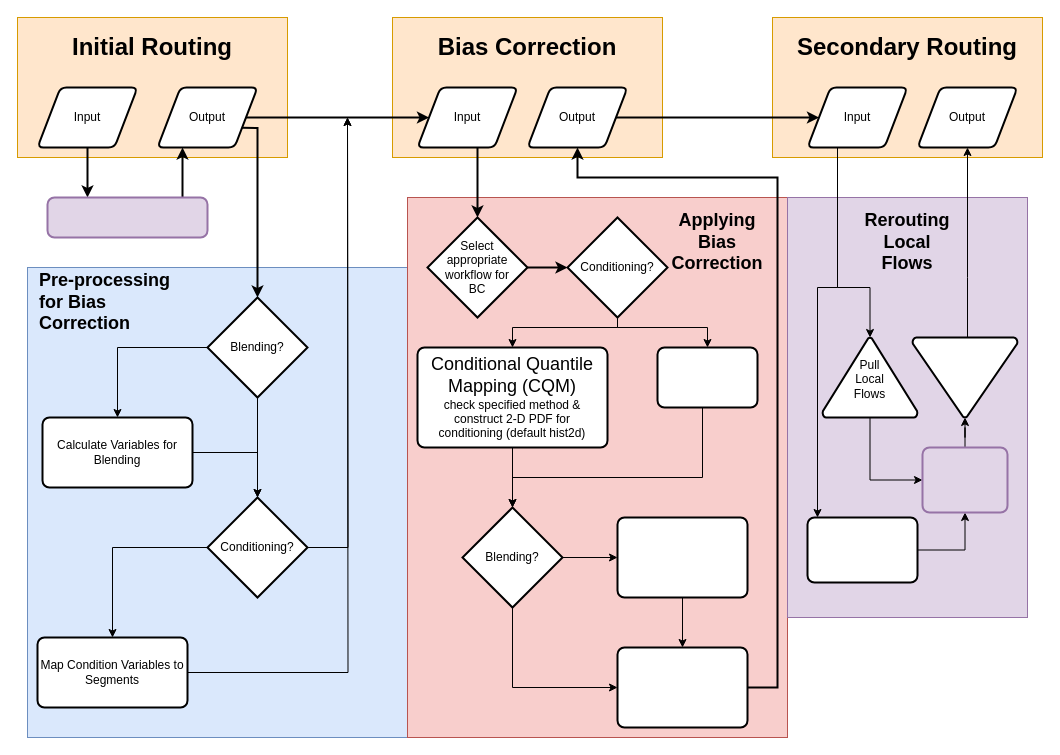
Image size: 1060x755. Some labels were removed from this diagram. The box of each missing label's shape, as (x1, y1, x2, y2) in pixels:
Apply Corrections to Local Flows: (616, 646, 748, 728)
Blend upstream/downstream corrections and multipliers: (616, 516, 748, 598)
EDCDFm: (656, 346, 758, 408)
Reroute Local flows through mizuRoute: (921, 446, 1008, 513)
Route Runoff through mizuRoute: (46, 196, 208, 238)
Scale Topology for routing only flows: (806, 516, 918, 583)
Update Local Flows: (911, 336, 1018, 418)
